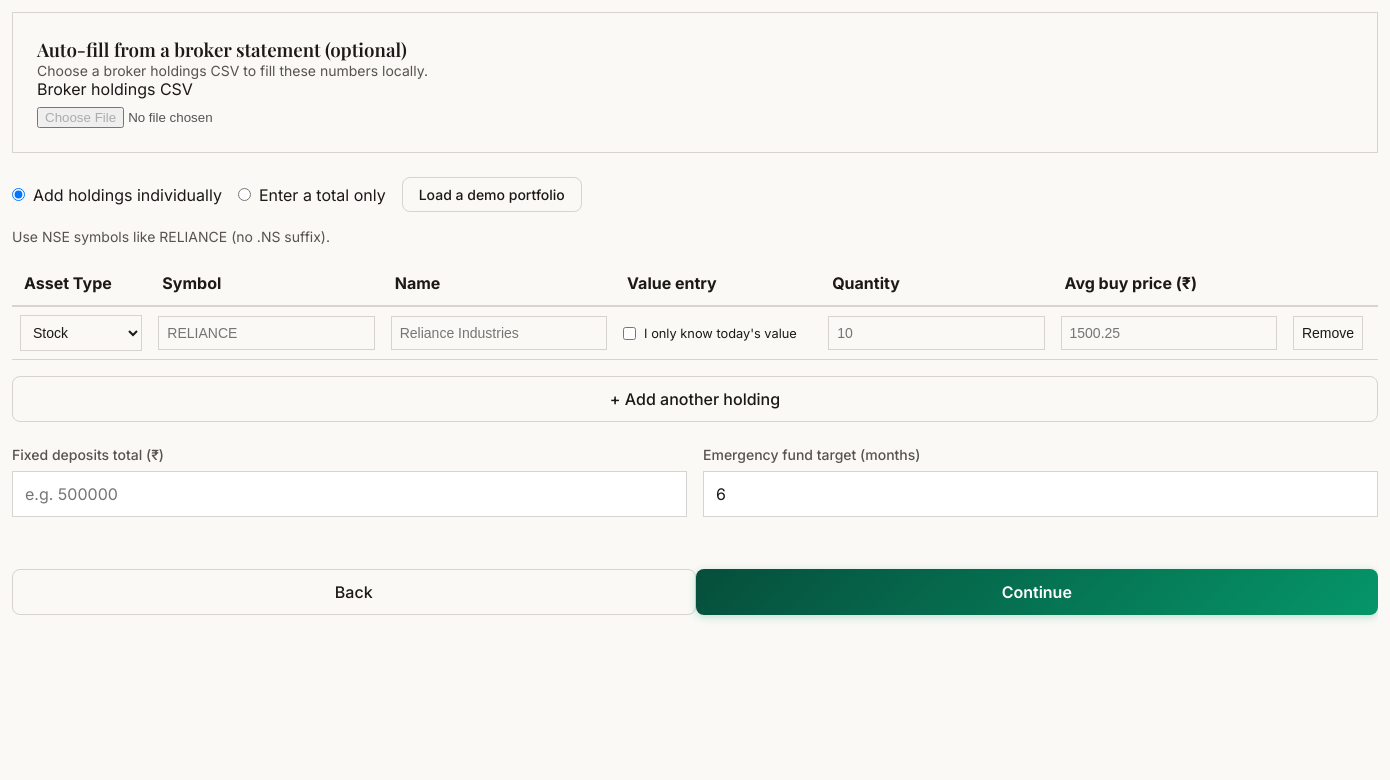
Test: Holdings broker CSV import › blocks broker import and saving if saved holdings arrive after a local edit
Click the button "+ Add another holding": {"x": 695, "y": 399} [12,376,1378,422]
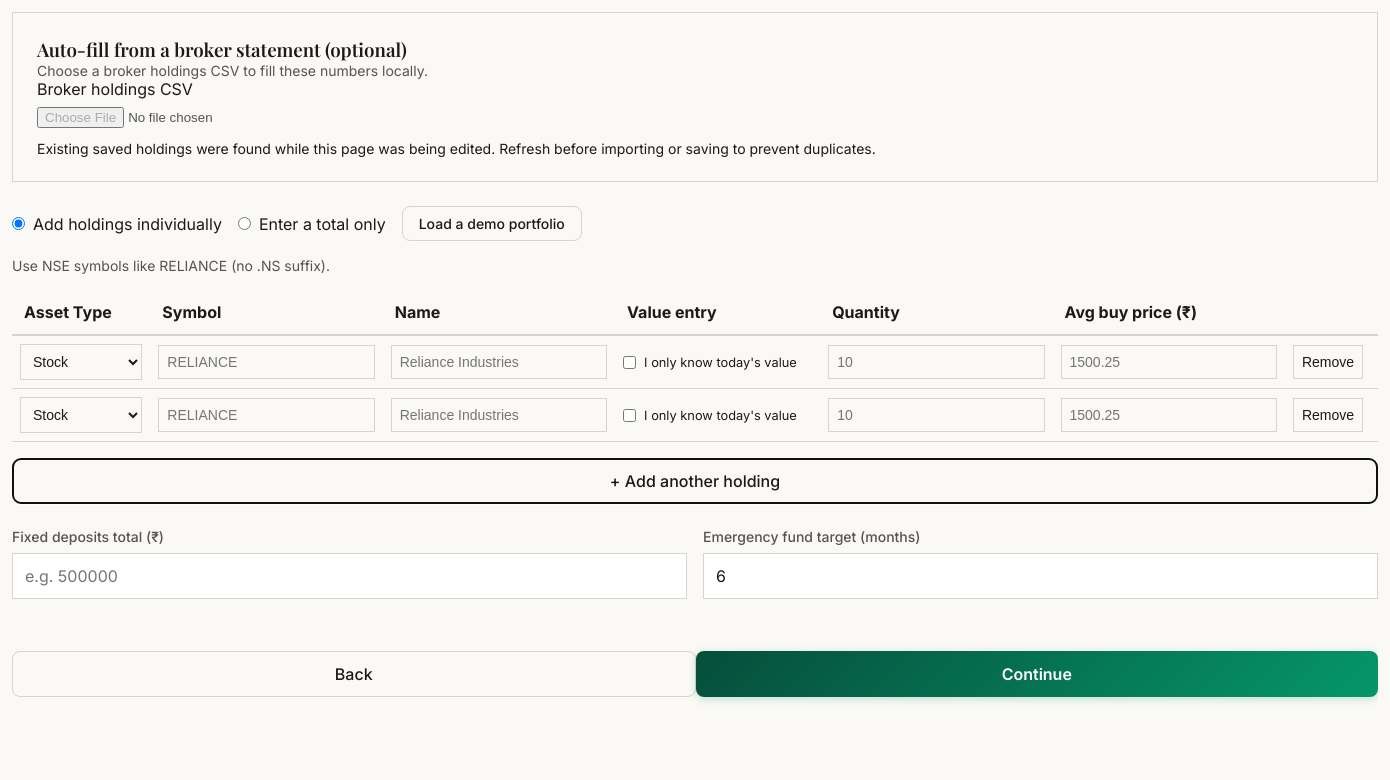
expect the file field labelled "Broker holdings CSV" is disabled: met, box [37,107,1353,128]
expect the message shows "refresh before importing or saving": met, box [37,140,876,157]
Click the button "Continue": {"x": 1037, "y": 674} [696,651,1378,697]
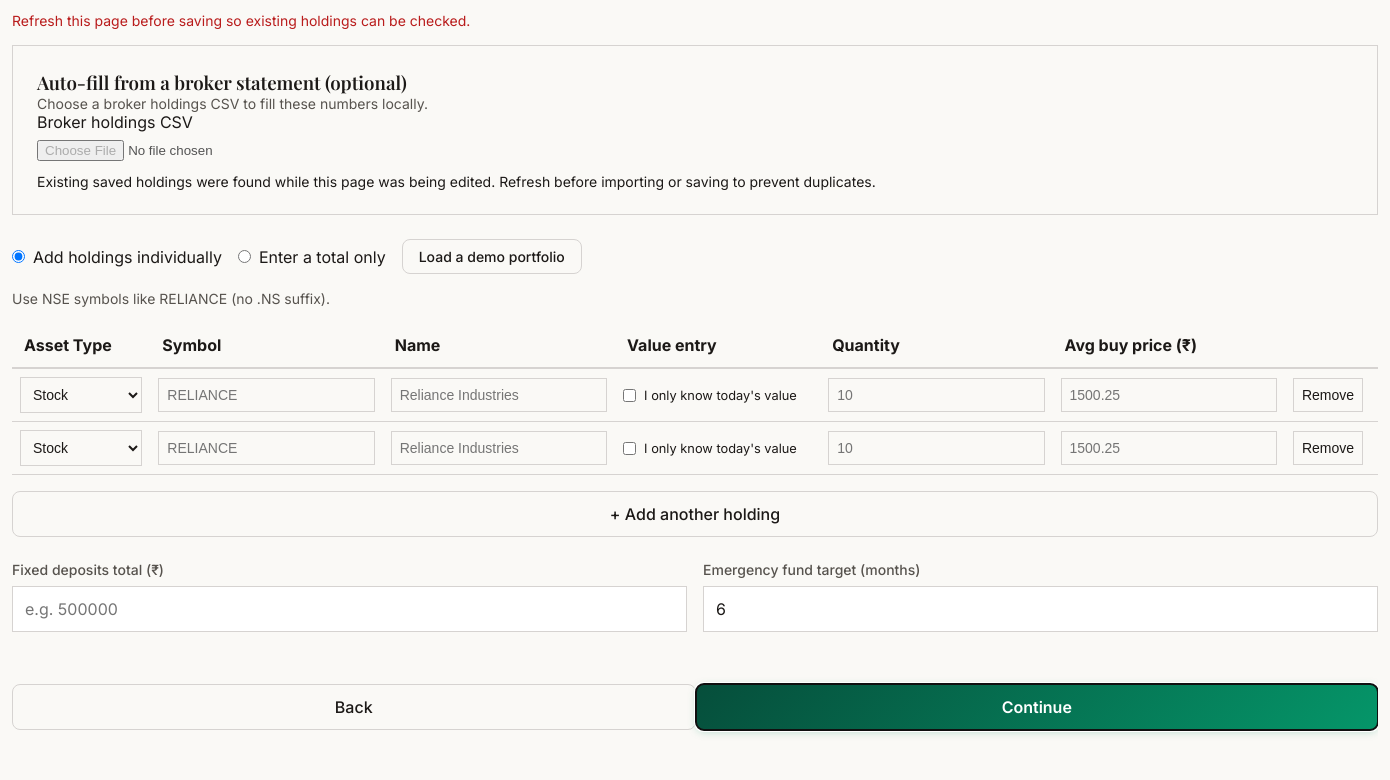
expect the text "Refresh this page before saving" is shown: met, box [12,12,470,29]
